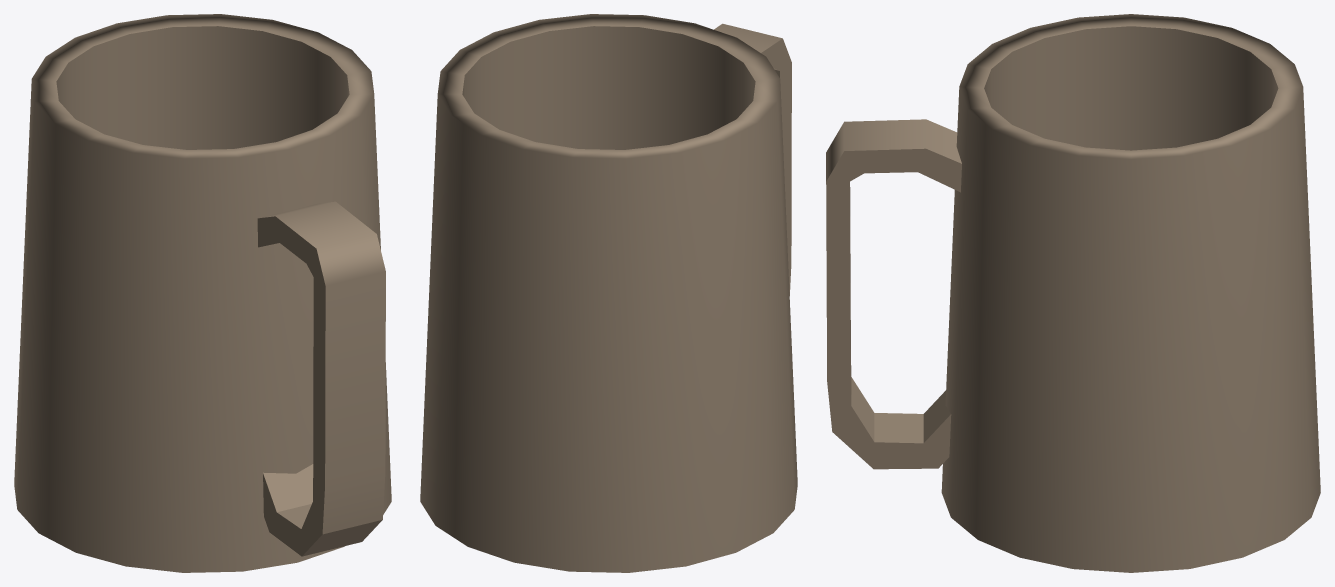
File: Tankard.fbx
3 renders of one model, left to right at view 1: azimuth 30°, elevation 25°; view 2: azimuth 150°, elevation 25°; view 3: azimuth 270°, elevation 25°, orthographic.
Visible parts, largest first — view 1: pCylinder2; view 2: pCylinder2; view 3: pCylinder2.
Part boxes in pixels (box(x1,y1,x2,y2)): pCylinder2: box(14, 14, 391, 572); pCylinder2: box(420, 14, 797, 572); pCylinder2: box(826, 14, 1320, 572).
Bounding box in the file's own units: 1.27 × 1.5 × 1.65.
